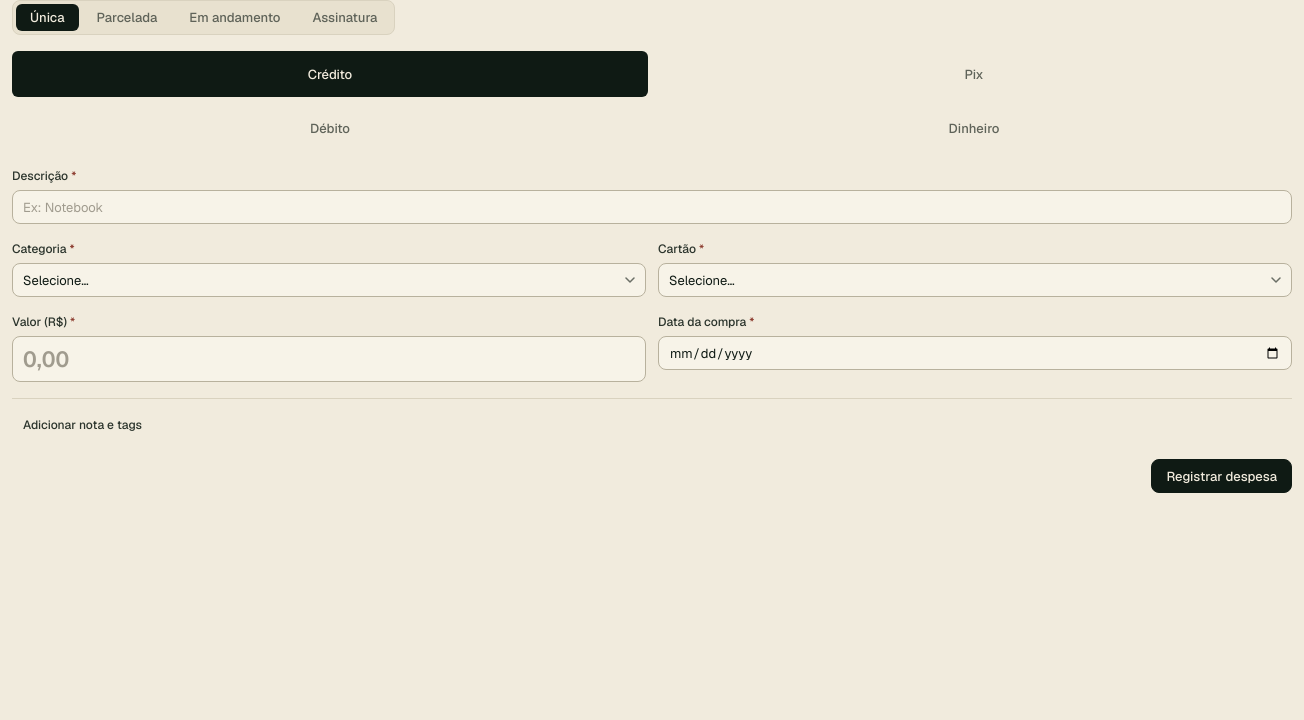
nota e tags no cadastro de despesa › preserva o que foi digitado ao trocar de aba
Click the button "Adicionar nota e tags": x=82, y=425 top-left (12, 411), bottom-right (153, 439)
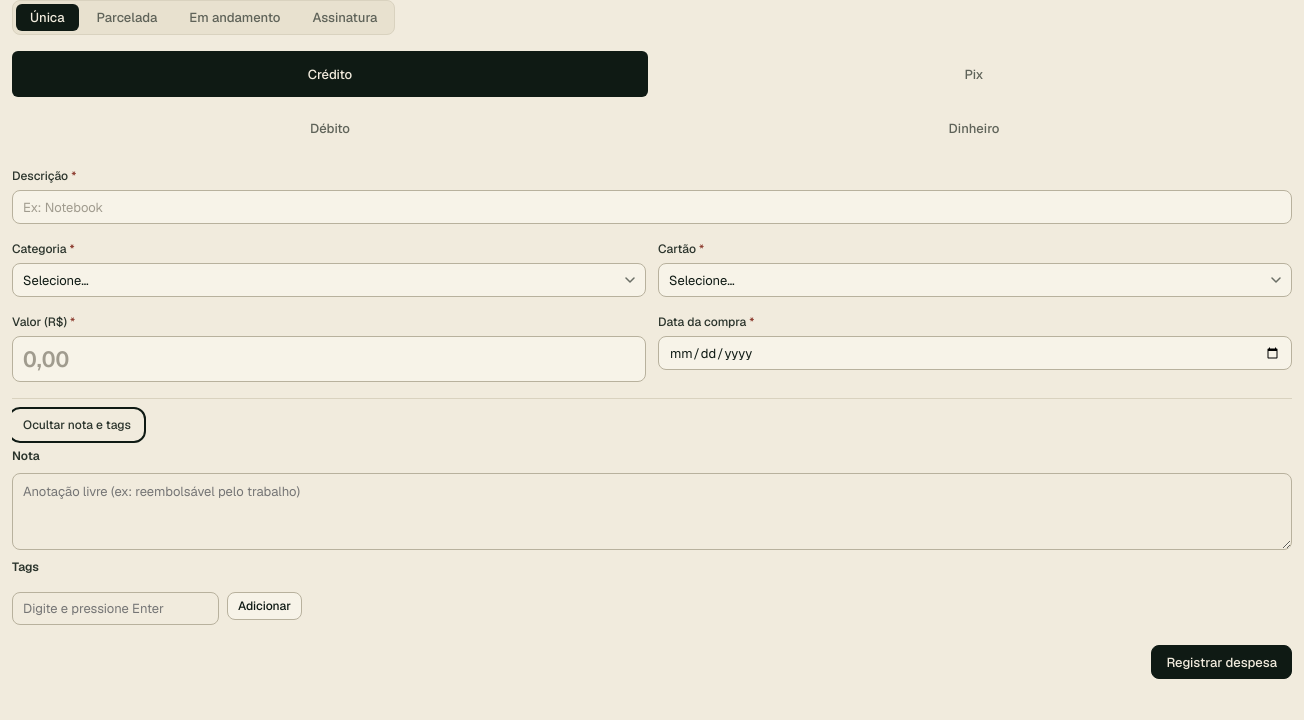
In the field named "Nova tag": x=116, y=608 top-left (12, 592), bottom-right (219, 625), type "trabalho"
Then press Enter
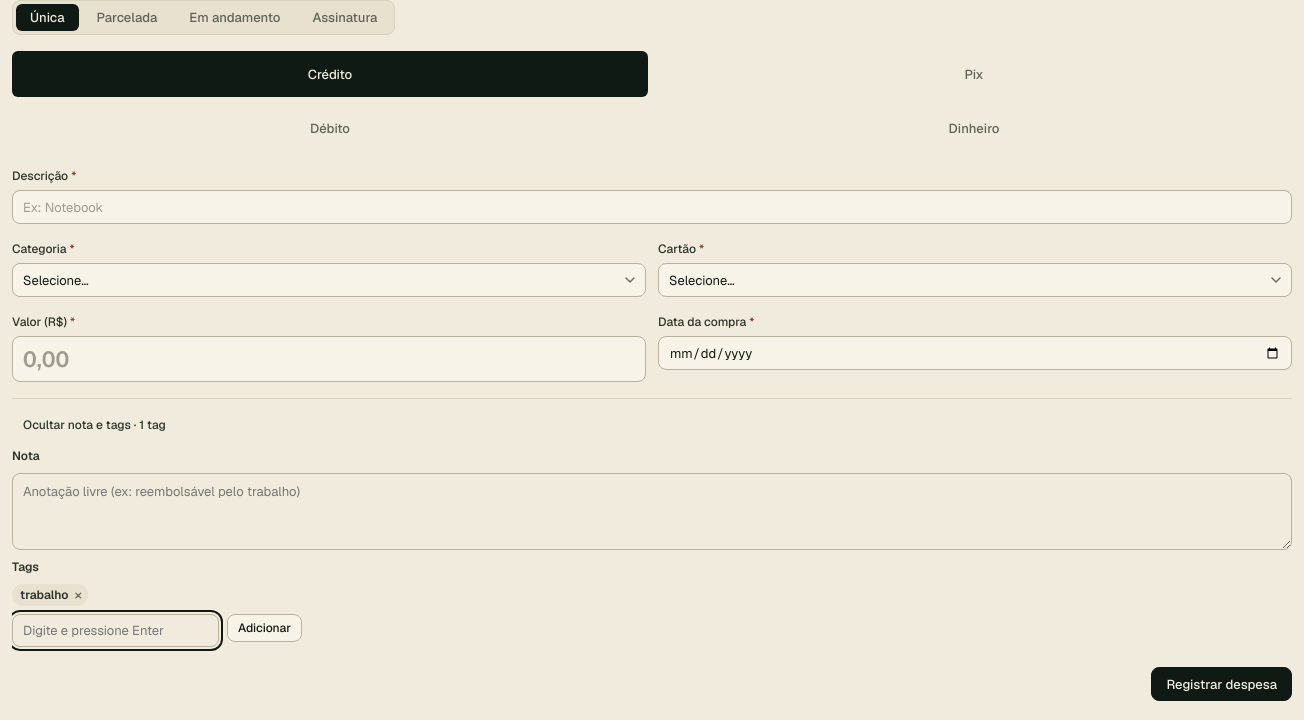
Click the radio button labelled "Parcelada": x=127, y=18 top-left (82, 4), bottom-right (171, 31)
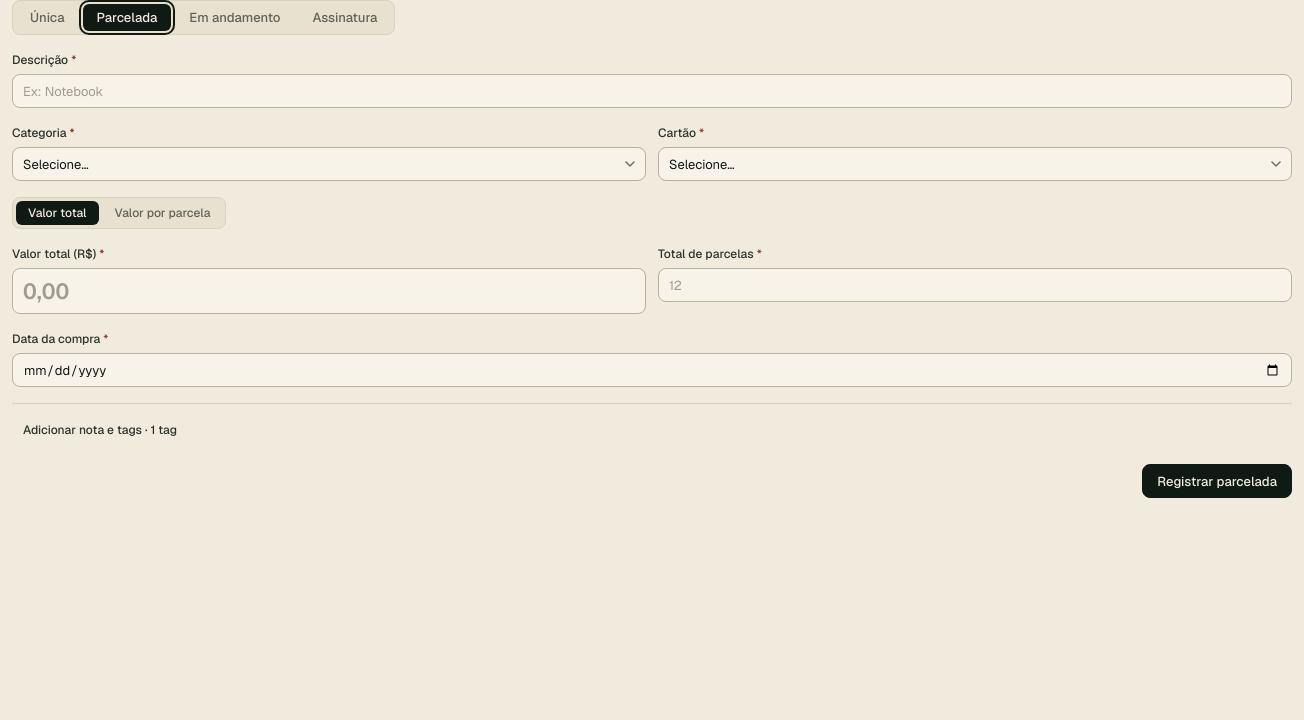
Click the button "Adicionar nota e tags · 1 tag": x=100, y=430 top-left (12, 416), bottom-right (188, 444)
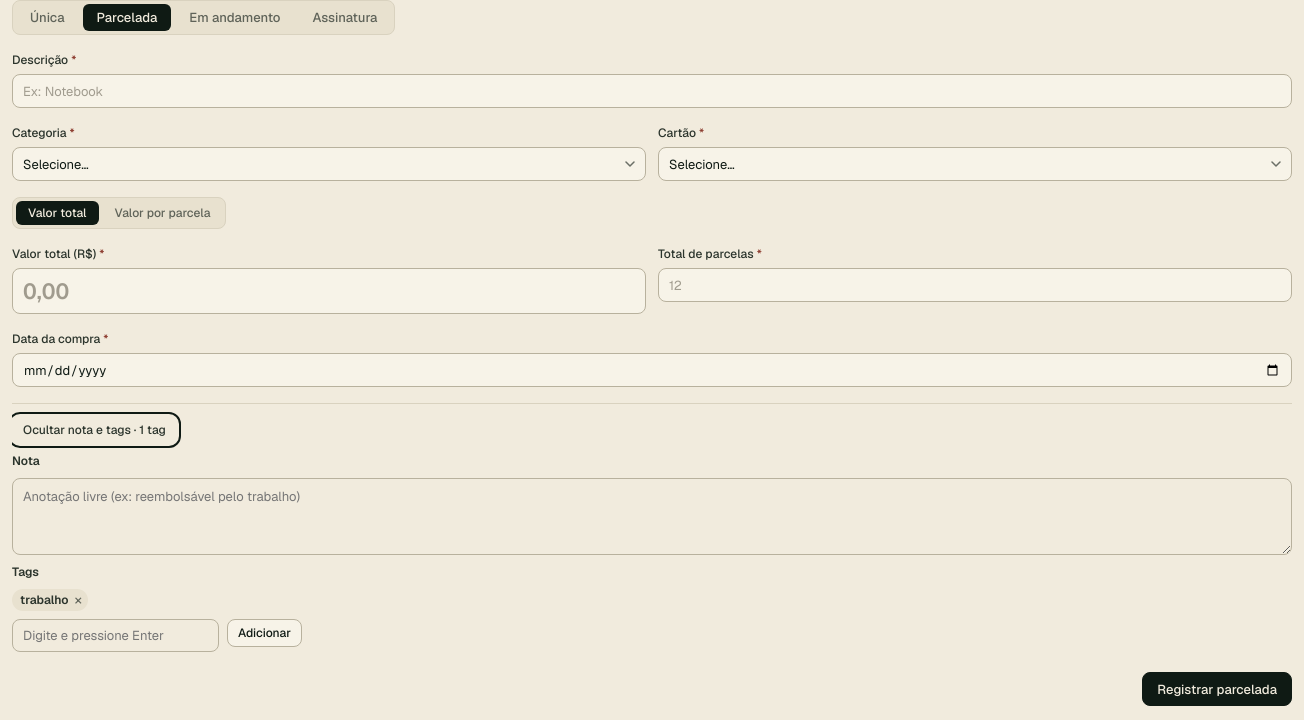
Expected: the text "trabalho" is shown, top-left (20, 592), bottom-right (69, 608)
